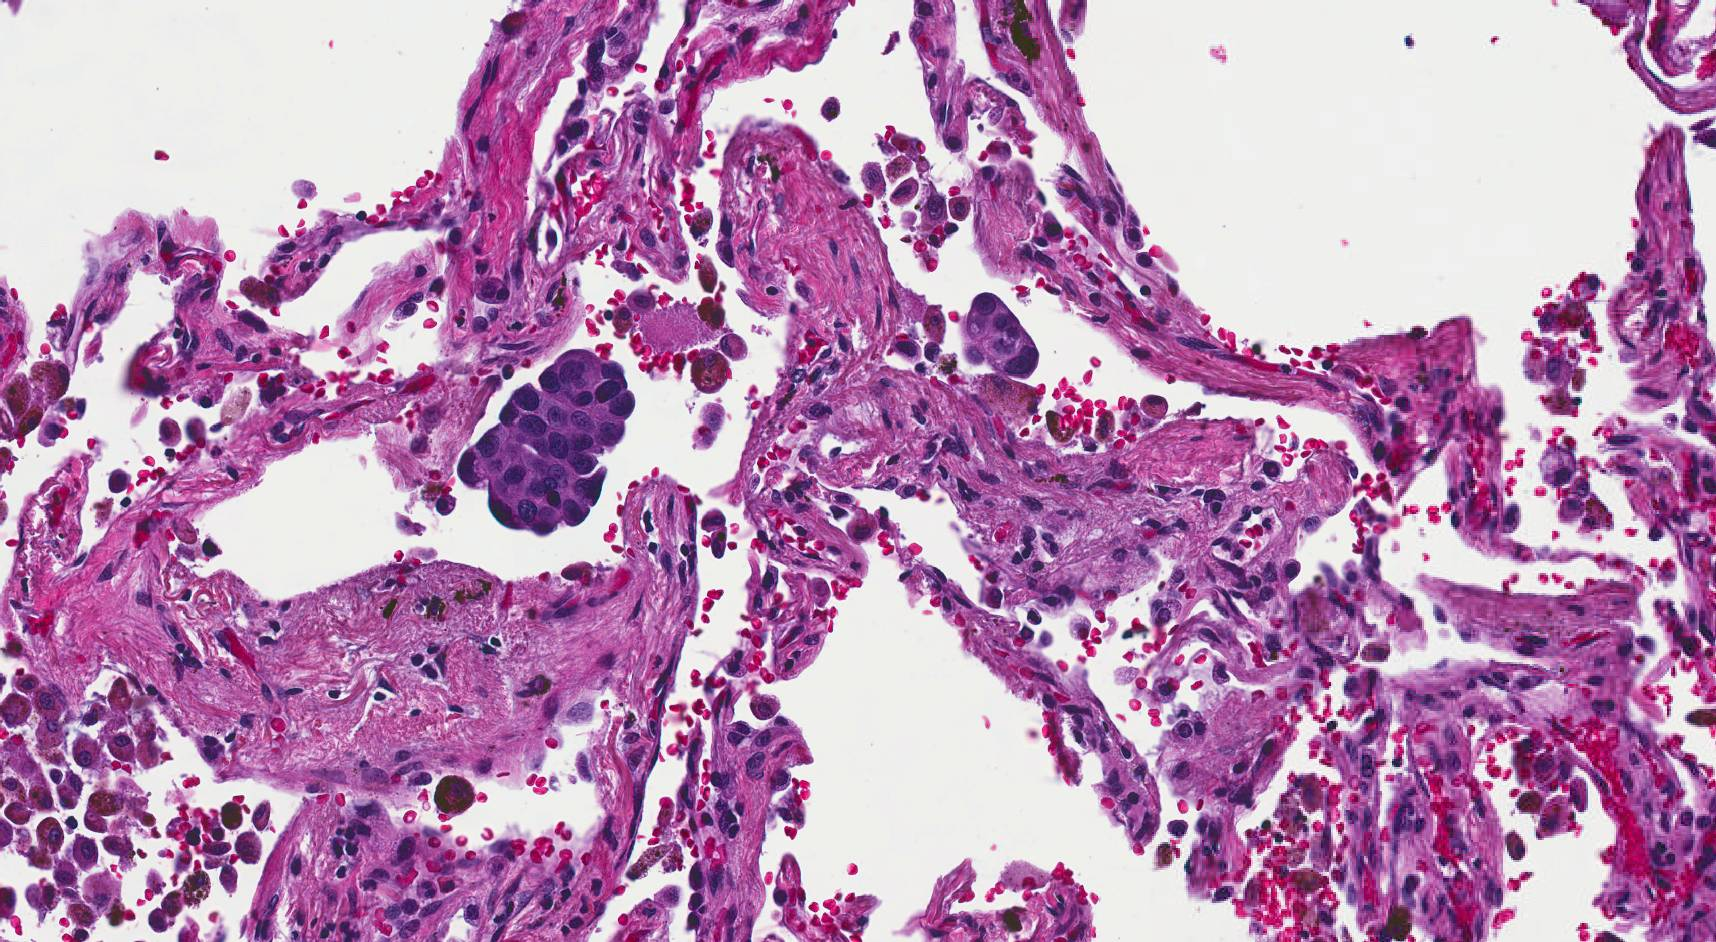stas: (457, 350, 636, 538), (962, 291, 1041, 377)
